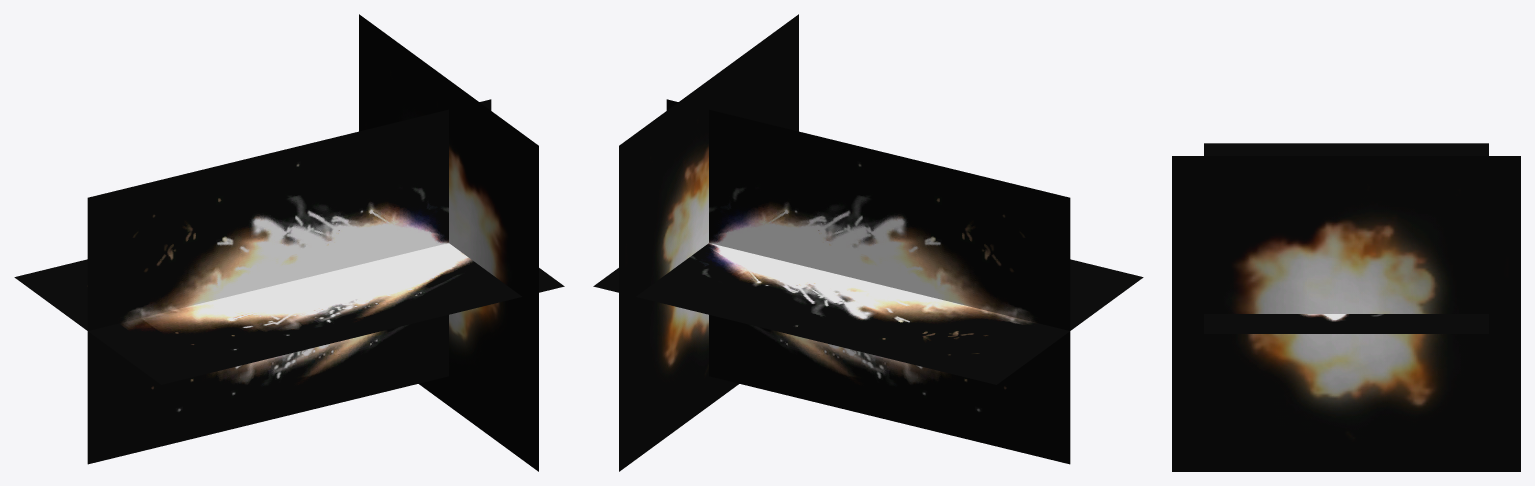
File: muzzle flash plane main1.glb
3 renders of one model, left to right at view 1: azimuth 30°, elevation 25°; view 2: azimuth 150°, elevation 25°; view 3: azimuth 270°, elevation 25°, orthographic. The views are drawn at different scales.
Parts seen in each view (by area): view 1: muzzle flash plane main; view 2: muzzle flash plane main; view 3: muzzle flash plane main.
Boxes of the visible parts, bbox=[...] form: muzzle flash plane main: bbox=[14, 14, 564, 471]; muzzle flash plane main: bbox=[593, 14, 1143, 471]; muzzle flash plane main: bbox=[1172, 143, 1520, 471].
Size of the model in its own units: 2.5 by 1.93 by 1.93.
2 materials, 2 textured.
